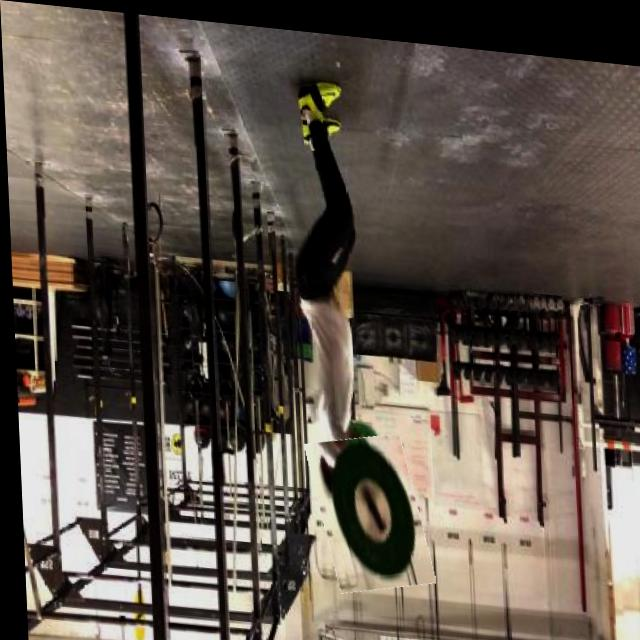barbell: (308, 424, 426, 590)
